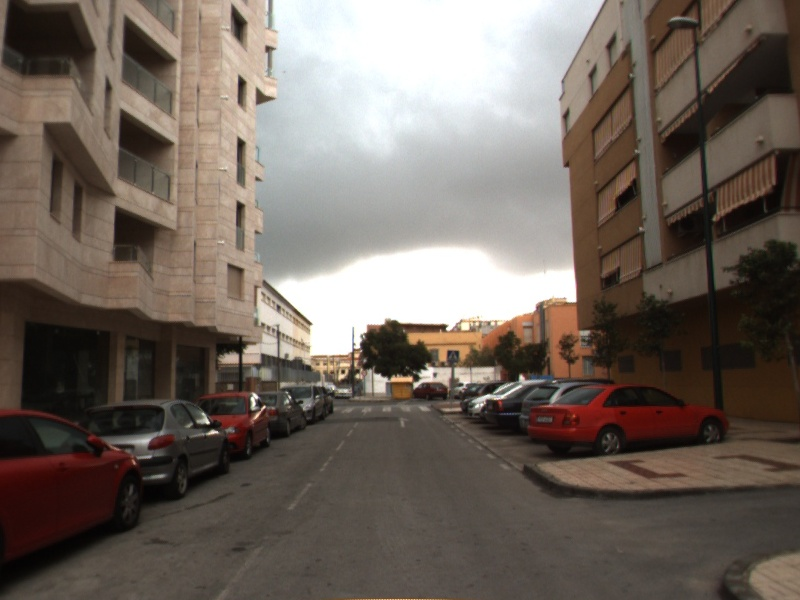STRAIGHT: (394, 415, 413, 430)
